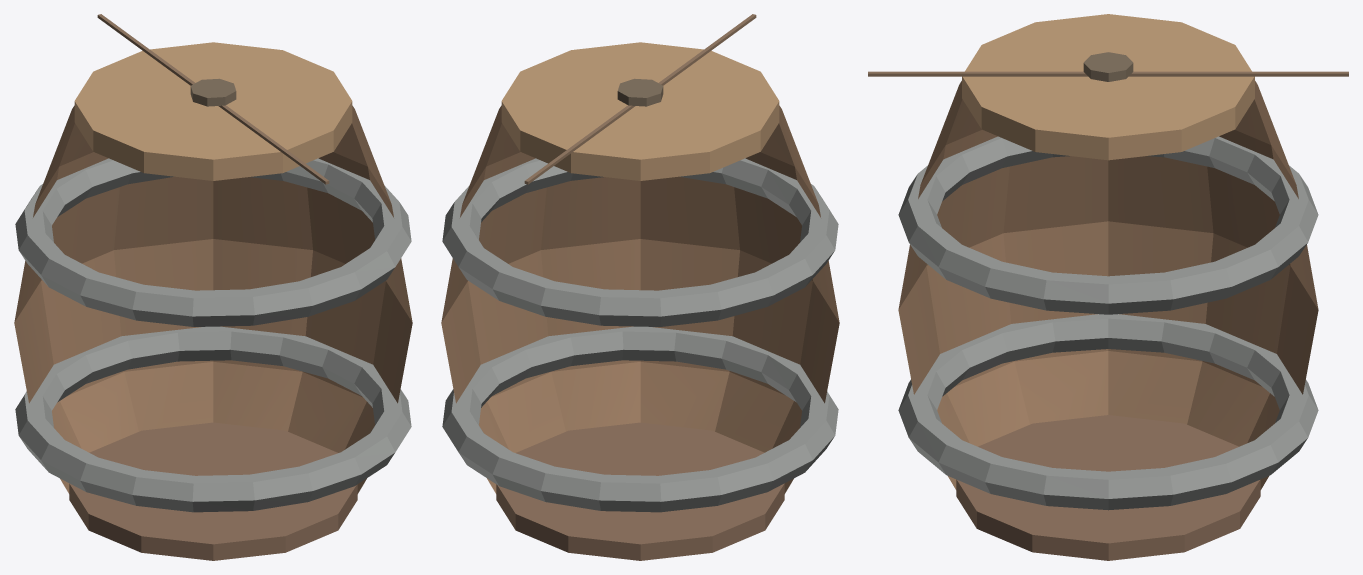
Rendered from barrel_intact.glb.
3 views of the same model, side by side, from view 1: azimuth 30°, elevation 25°; view 2: azimuth 150°, elevation 25°; view 3: azimuth 270°, elevation 25° (orthographic). The views are drawn at different scales.
Parts seen in each view (by area): view 1: Barrel_Stave_Body, Barrel_Lid, Iron_Hoop_0, Iron_Hoop_1, Barrel_Bottom, Cork, Lid_Board_Groove_0; view 2: Barrel_Stave_Body, Barrel_Lid, Iron_Hoop_0, Iron_Hoop_1, Barrel_Bottom, Cork, Lid_Board_Groove_0; view 3: Barrel_Stave_Body, Barrel_Lid, Iron_Hoop_0, Iron_Hoop_1, Barrel_Bottom, Lid_Board_Groove_0, Cork, Lid_Board_Groove_1.
Part boxes in pixels (x1,y1,x2,y2): Barrel_Stave_Body: (14, 105, 412, 493); Barrel_Lid: (74, 42, 352, 180); Iron_Hoop_0: (15, 326, 411, 512); Iron_Hoop_1: (15, 158, 411, 326); Barrel_Bottom: (69, 422, 357, 560); Cork: (190, 78, 236, 106); Lid_Board_Groove_0: (97, 14, 220, 107); Barrel_Stave_Body: (441, 105, 839, 493); Barrel_Lid: (501, 42, 779, 180); Iron_Hoop_0: (442, 326, 838, 512); Iron_Hoop_1: (442, 158, 838, 326); Barrel_Bottom: (496, 422, 784, 560); Cork: (617, 78, 663, 106); Lid_Board_Groove_0: (524, 106, 632, 184); Barrel_Stave_Body: (898, 81, 1318, 489); Barrel_Lid: (962, 14, 1254, 160); Iron_Hoop_0: (898, 314, 1318, 510); Iron_Hoop_1: (898, 136, 1318, 314); Barrel_Bottom: (956, 415, 1260, 560); Lid_Board_Groove_0: (1129, 71, 1348, 76); Cork: (1083, 52, 1133, 81); Lid_Board_Groove_1: (1034, 71, 1293, 76).
Bounding box in the file's own units: 0.76 × 0.8665 × 0.87.
